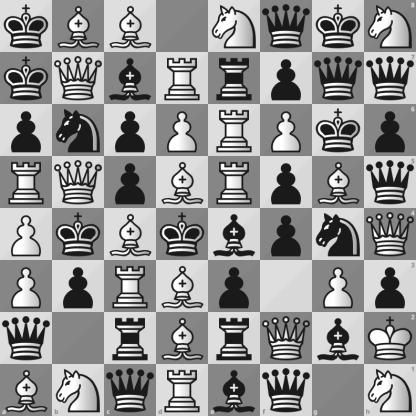B: (0, 364, 52, 416), (53, 1, 104, 52), (105, 1, 156, 52), (105, 209, 156, 260), (157, 157, 208, 208), (157, 261, 208, 312), (157, 313, 208, 364), (313, 157, 364, 208)
K: (364, 312, 416, 364)
N: (52, 364, 104, 416), (364, 0, 416, 52), (364, 364, 416, 416), (209, 1, 260, 52)
P: (1, 209, 52, 260), (1, 261, 52, 312), (157, 105, 208, 156), (261, 105, 312, 156), (313, 261, 364, 312)
Q: (364, 209, 416, 260), (53, 53, 104, 104), (53, 157, 104, 208), (261, 313, 312, 364)
R: (156, 364, 209, 416), (1, 157, 52, 208), (105, 261, 156, 312), (157, 53, 208, 104), (209, 105, 260, 156), (209, 157, 260, 208)
b: (209, 364, 260, 416), (105, 53, 156, 104), (209, 209, 260, 260), (313, 313, 364, 364)
board: (0, 0, 415, 415)
k: (1, 1, 52, 52), (1, 53, 52, 104), (53, 209, 104, 260), (157, 209, 208, 260), (313, 1, 364, 52), (313, 105, 364, 156)
n: (53, 105, 104, 156), (313, 209, 364, 260)
p: (364, 104, 416, 156), (364, 260, 416, 312), (1, 105, 52, 156), (53, 261, 104, 312), (105, 105, 156, 156), (105, 157, 156, 208), (209, 261, 260, 312), (261, 53, 312, 104), (261, 157, 312, 208), (261, 209, 312, 260)
q: (364, 156, 416, 209), (104, 364, 156, 416), (260, 364, 312, 416), (364, 52, 416, 104), (1, 313, 52, 364), (261, 1, 312, 52), (313, 53, 364, 104)
r: (105, 313, 156, 364), (209, 53, 260, 104), (209, 313, 260, 364)
